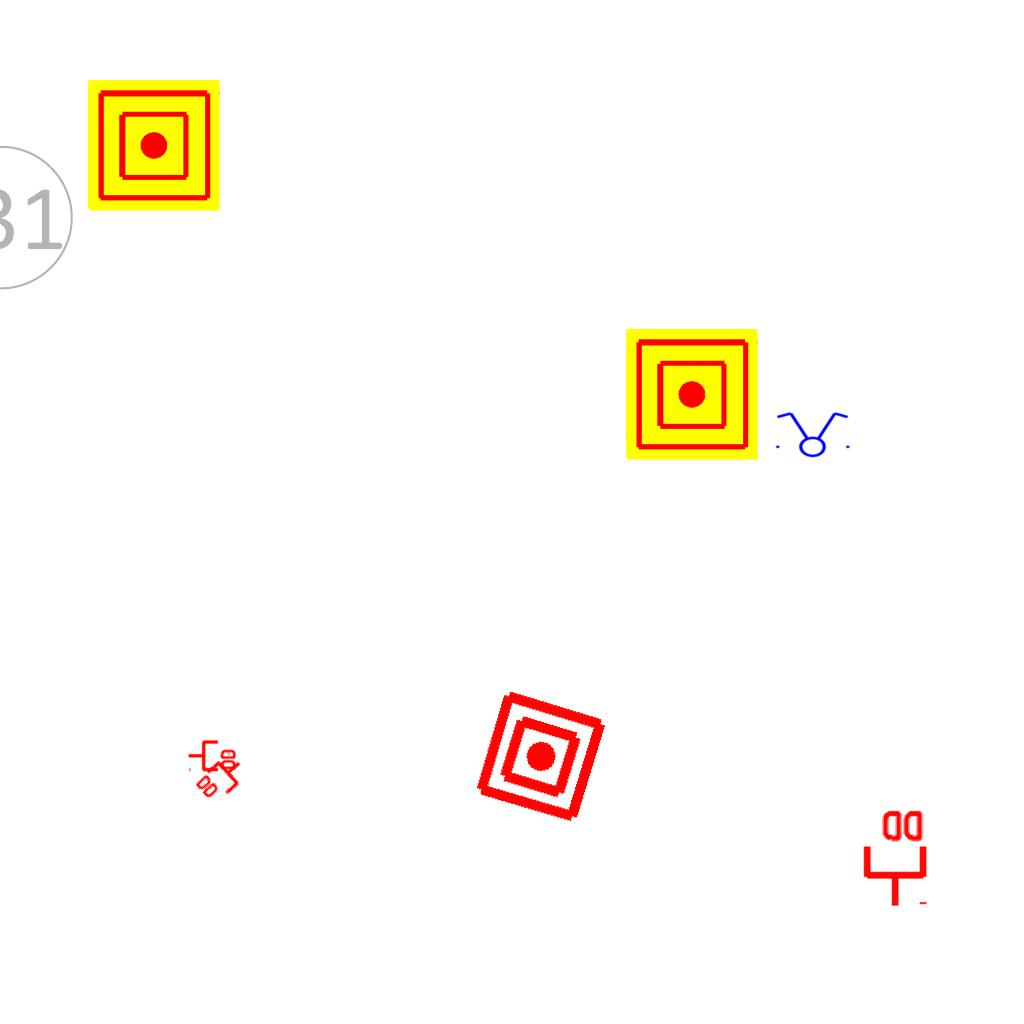Datenanschluss_zweifach: (859, 806, 928, 909), (191, 749, 253, 810), (187, 738, 238, 772)
NAM-Nichtautomatischer_Melder: (469, 685, 612, 828), (88, 79, 220, 211), (626, 328, 758, 460)
Serienschalter: (770, 410, 854, 458)
